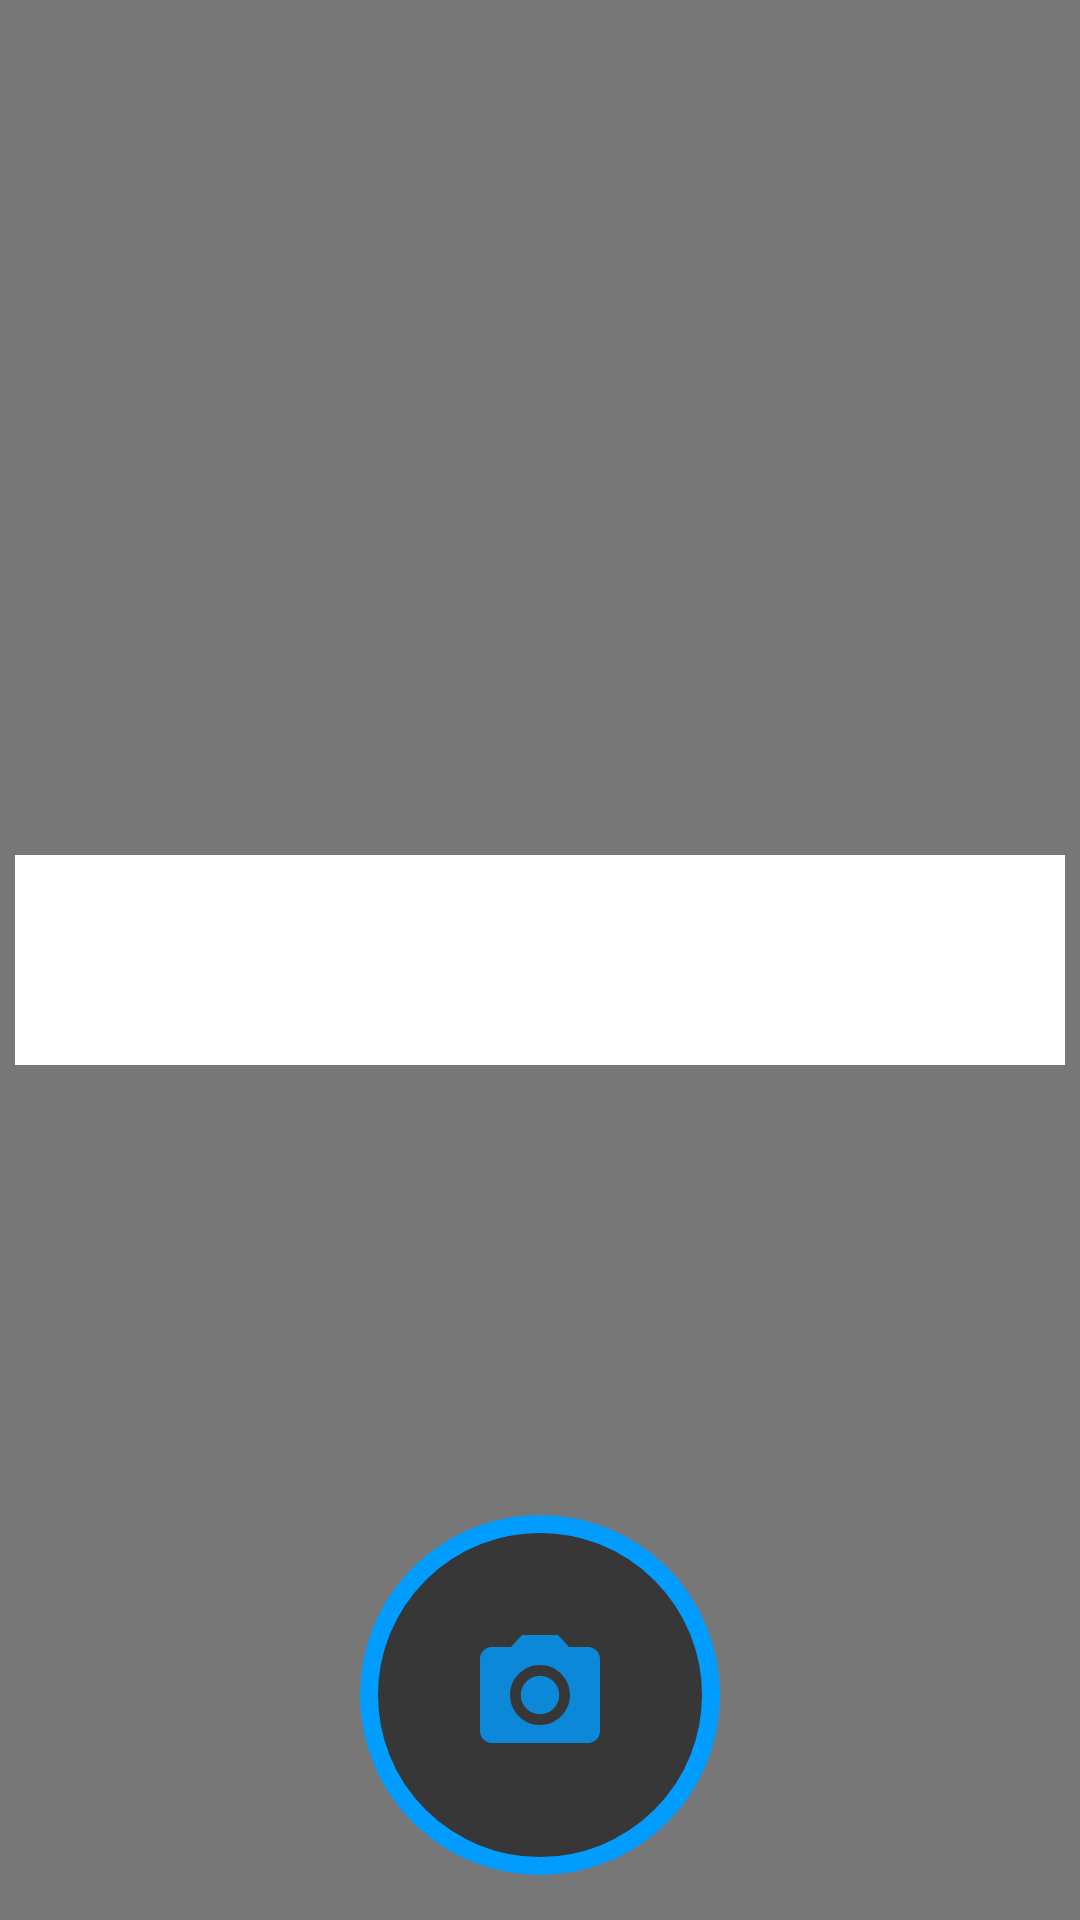

Icon bounding boxes for this 1080 x 1920 phone screenshot, format bbox(x1, y1, x2, y2):
camera: bbox(360, 1515, 720, 1875)
